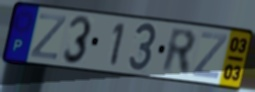1: (110, 22, 127, 68)
3: (127, 21, 158, 75), (62, 14, 94, 66)
R: (160, 26, 198, 78)
Z: (28, 12, 69, 62), (191, 31, 230, 81)
